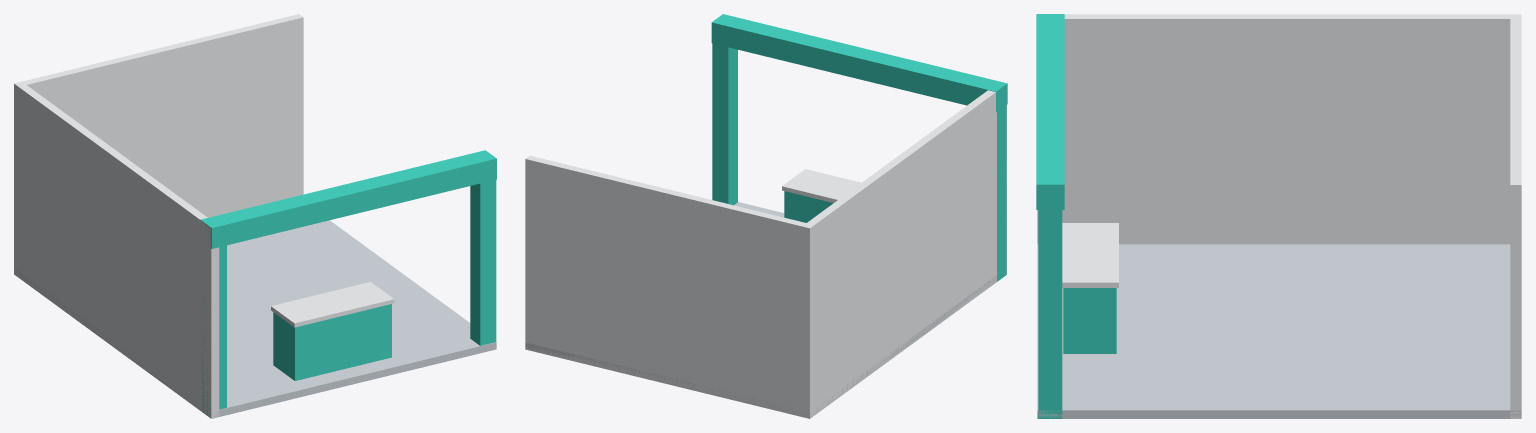
The picture shows the model from 3 angles, left to right: view 1: azimuth 30°, elevation 25°; view 2: azimuth 150°, elevation 25°; view 3: azimuth 270°, elevation 25°; orthographic projection. The views are drawn at different scales.
Parts seen in each view (by area): view 1: Exhibition Booth Concept; view 2: Exhibition Booth Concept; view 3: Exhibition Booth Concept.
Boxes of the visible parts, left/top/right/bottom form: Exhibition Booth Concept: left=14, top=14, right=496, bottom=418; Exhibition Booth Concept: left=525, top=14, right=1007, bottom=418; Exhibition Booth Concept: left=1036, top=14, right=1521, bottom=418.
Size of the model in its own units: 5 by 3.2 by 6.02.
